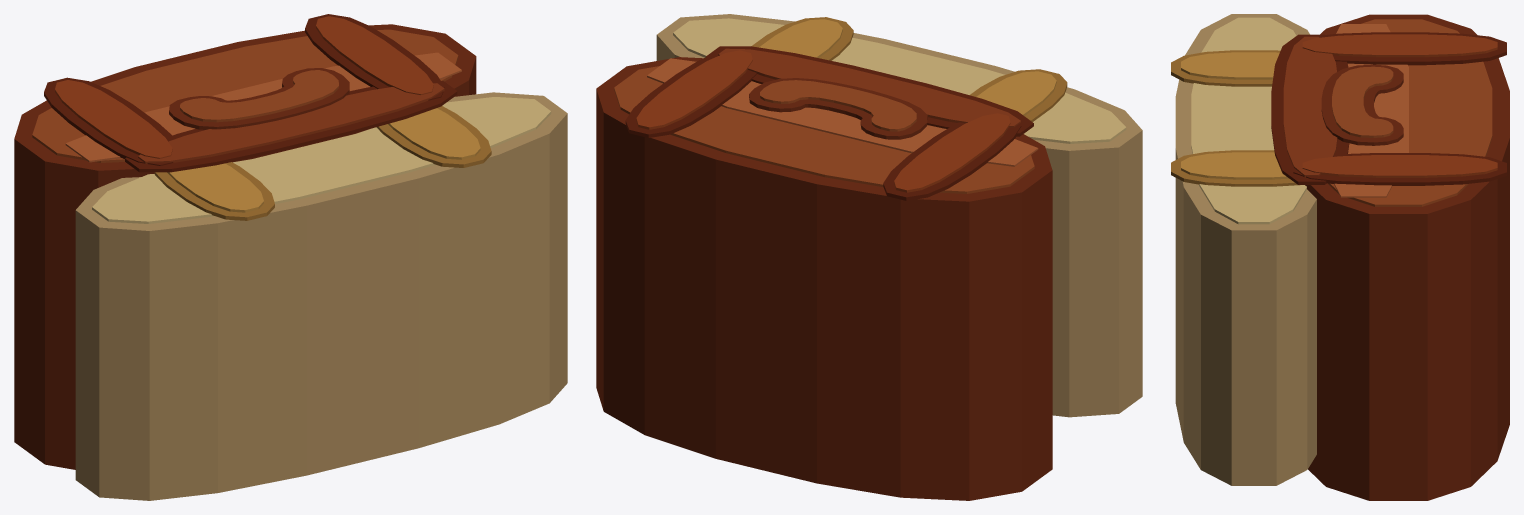
Rendered from bag_aventureiro.fbx.
3 renders of one model, left to right at view 1: azimuth 30°, elevation 25°; view 2: azimuth 150°, elevation 25°; view 3: azimuth 270°, elevation 25°, orthographic. The views are drawn at different scales.
Parts seen in each view (by area): view 1: bag_aventureiro_mochila; view 2: bag_aventureiro_mochila; view 3: bag_aventureiro_mochila.
Part boxes in pixels (x1,y1,x2,y2): bag_aventureiro_mochila: (14,14,567,500); bag_aventureiro_mochila: (596,14,1142,500); bag_aventureiro_mochila: (1171,14,1509,500).
Size of the model in its own units: 2.94 by 1.9 by 1.95.
Materials: 1 (1 with a texture image).
